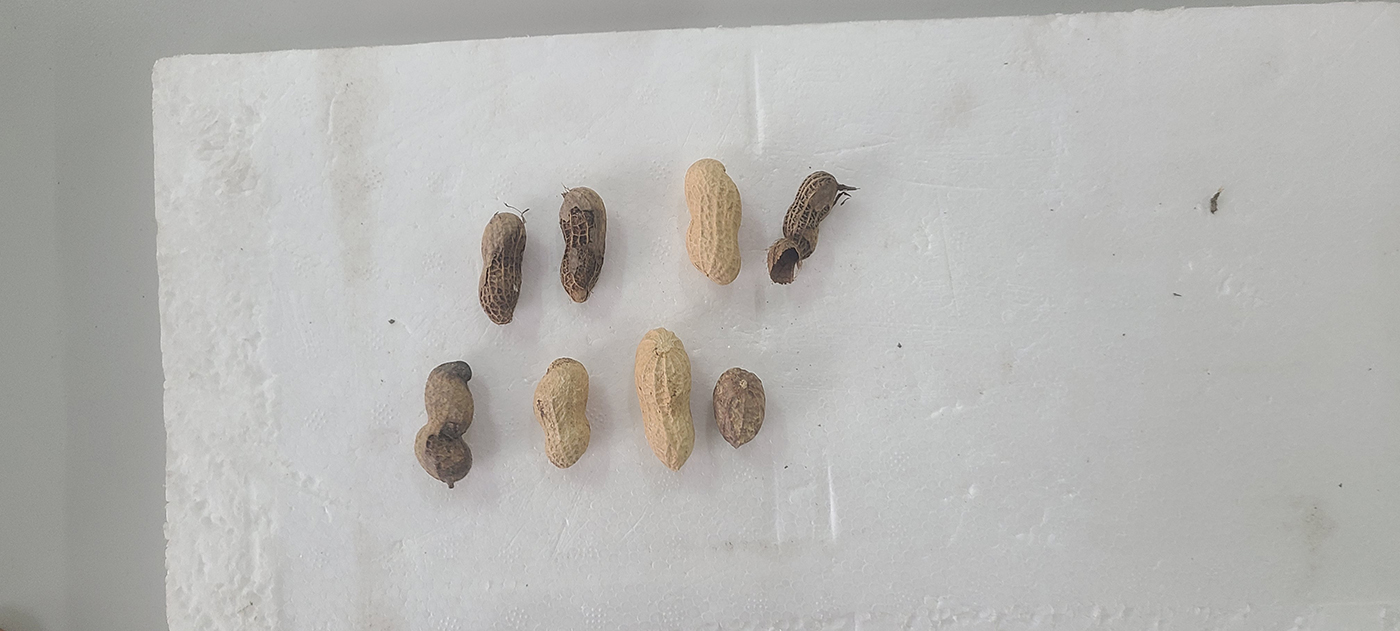h: (634, 328, 695, 470), (683, 159, 743, 285), (533, 358, 590, 467)
l: (766, 170, 838, 287), (412, 359, 473, 483), (559, 187, 607, 305), (478, 211, 526, 324), (713, 367, 766, 447)
